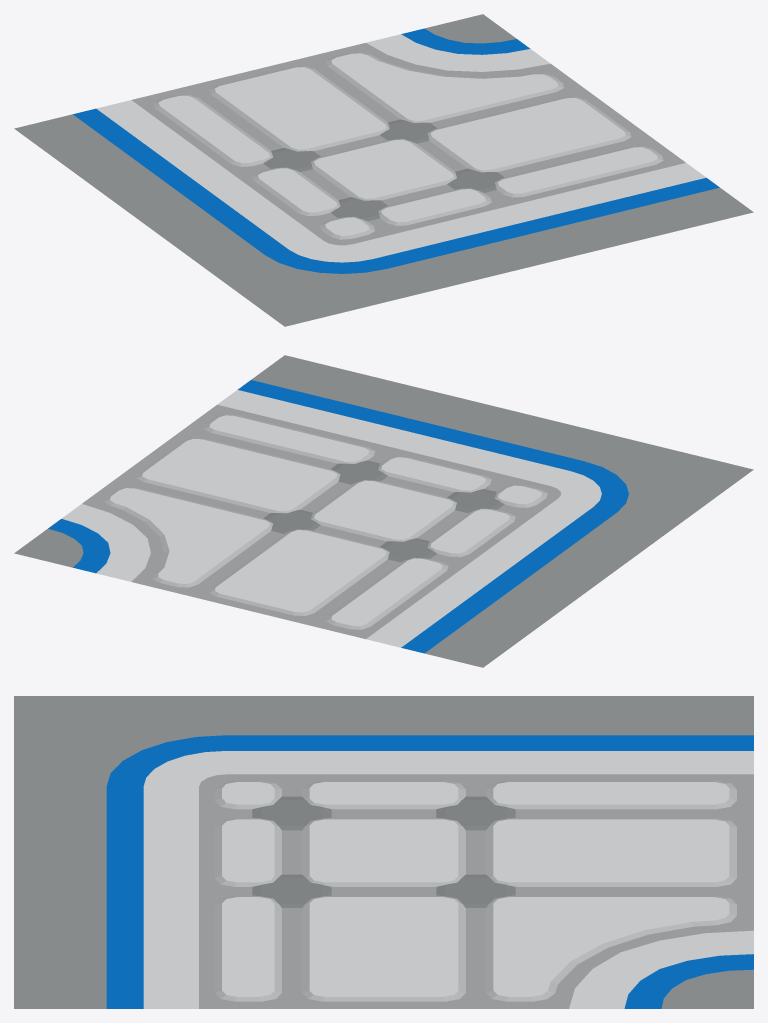
The model's file is Floor_type_A_010.glb.
3 views of the same model, one above another, from view 1: azimuth 30°, elevation 25°; view 2: azimuth 150°, elevation 25°; view 3: azimuth 270°, elevation 25° (orthographic). The views are drawn at different scales.
Parts seen in each view (by area): view 1: Floor_type_A_010; view 2: Floor_type_A_010; view 3: Floor_type_A_010.
Boxes of the visible parts, x1,y1,x2,y2 form: Floor_type_A_010: (14, 14, 753, 326); Floor_type_A_010: (14, 355, 753, 667); Floor_type_A_010: (14, 696, 753, 1008).
Bounding box in the file's own units: 4 × 0.0134 × 4.
2 materials, 2 textured.
